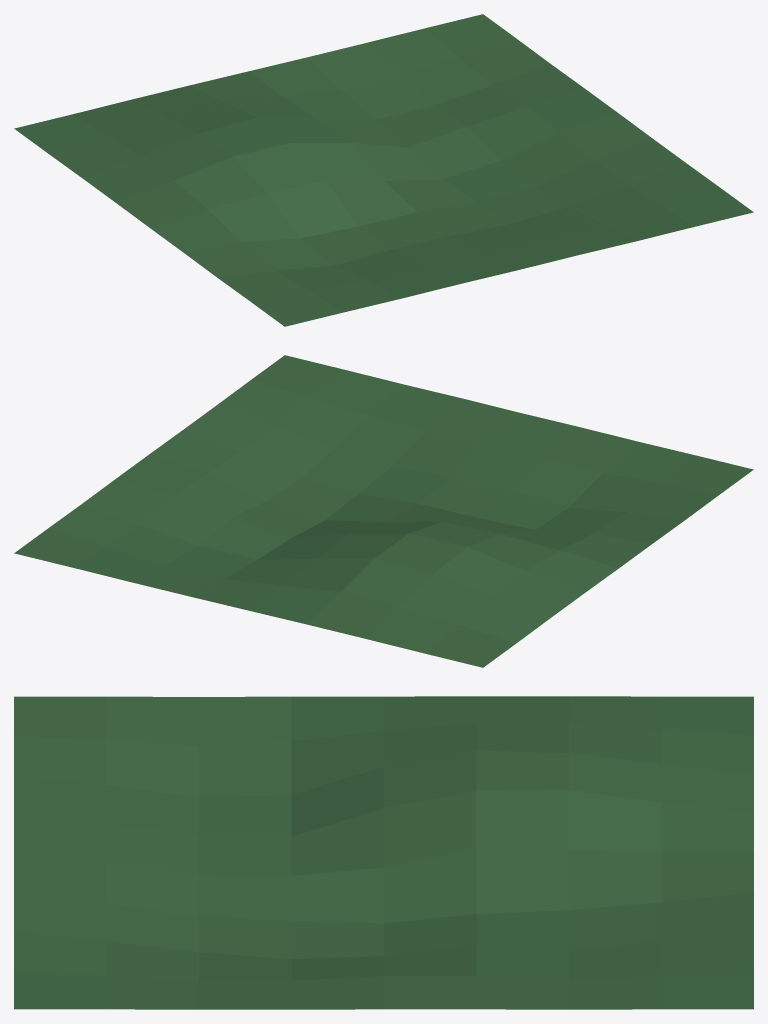
The model's file is Terrain_18_Light_Green.fbx.
3 renders of one model, top to bottom at view 1: azimuth 30°, elevation 25°; view 2: azimuth 150°, elevation 25°; view 3: azimuth 270°, elevation 25°, orthographic. The views are drawn at different scales.
Visible parts, largest first — view 1: Terrain_18_Light_Green; view 2: Terrain_18_Light_Green; view 3: Terrain_18_Light_Green.
Boxes of the visible parts, box(x1,y1,x2,y2) form: Terrain_18_Light_Green: box(14, 14, 753, 326); Terrain_18_Light_Green: box(14, 355, 753, 667); Terrain_18_Light_Green: box(14, 696, 753, 1009).
Size of the model in its own units: 7000 by 580 by 7000.
